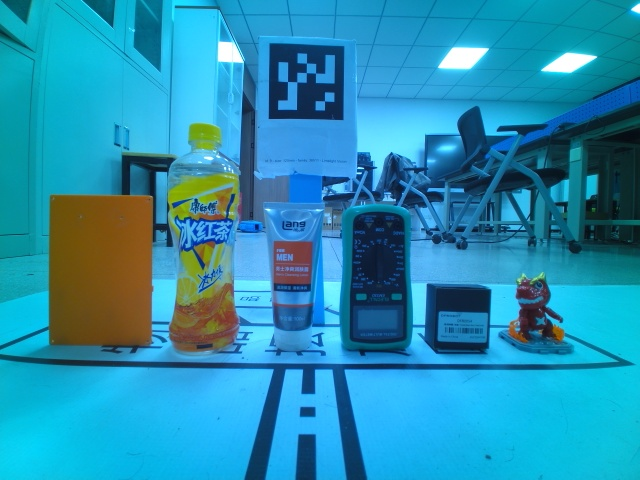banzi: (424, 282, 492, 354)
binghongcha: (497, 271, 574, 355)
dabao: (262, 200, 327, 352)
dianbiao: (166, 123, 241, 357)
hezi: (339, 202, 414, 352)
long: (47, 193, 155, 348)
